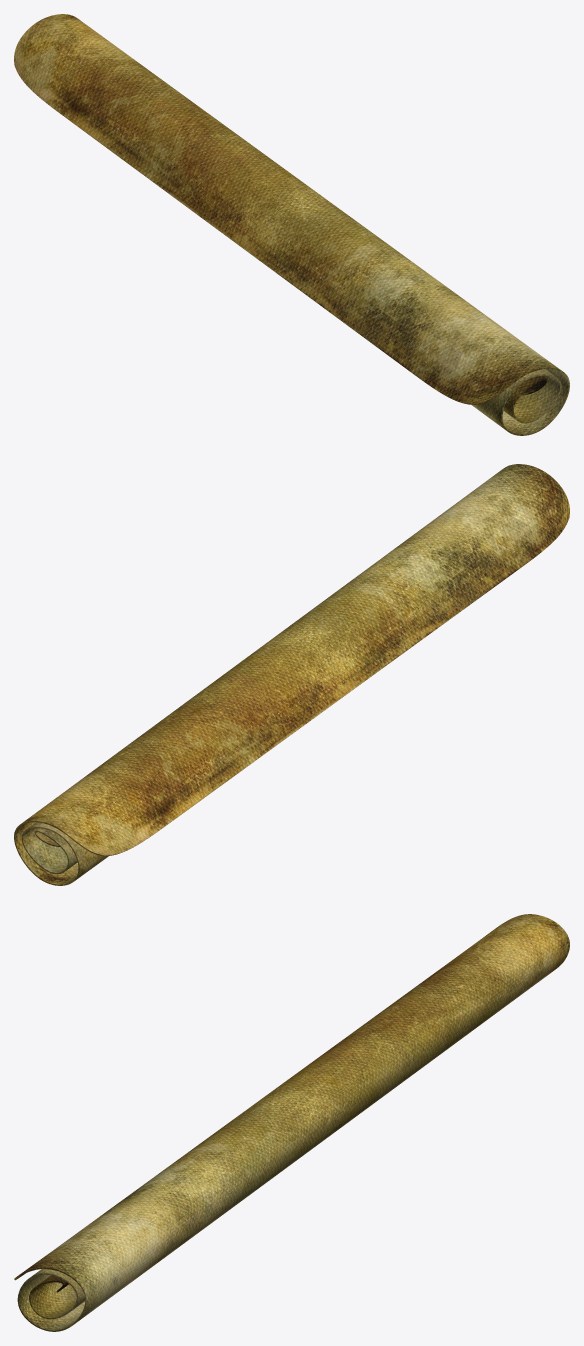
Rendered from sail.fbx.
The picture shows the model from 3 angles, top to bottom: view 1: azimuth 30°, elevation 25°; view 2: azimuth 150°, elevation 25°; view 3: azimuth 330°, elevation 25°; orthographic projection.
Parts seen in each view (by area): view 1: Plane; view 2: Plane; view 3: Plane.
Boxes of the visible parts, x1,y1,x2,y2 form: Plane: (14,14,569,435); Plane: (14,464,569,885); Plane: (14,914,569,1331).
Size of the model in its own units: 21.52 by 14.53 by 200.
1 material, 1 textured.
